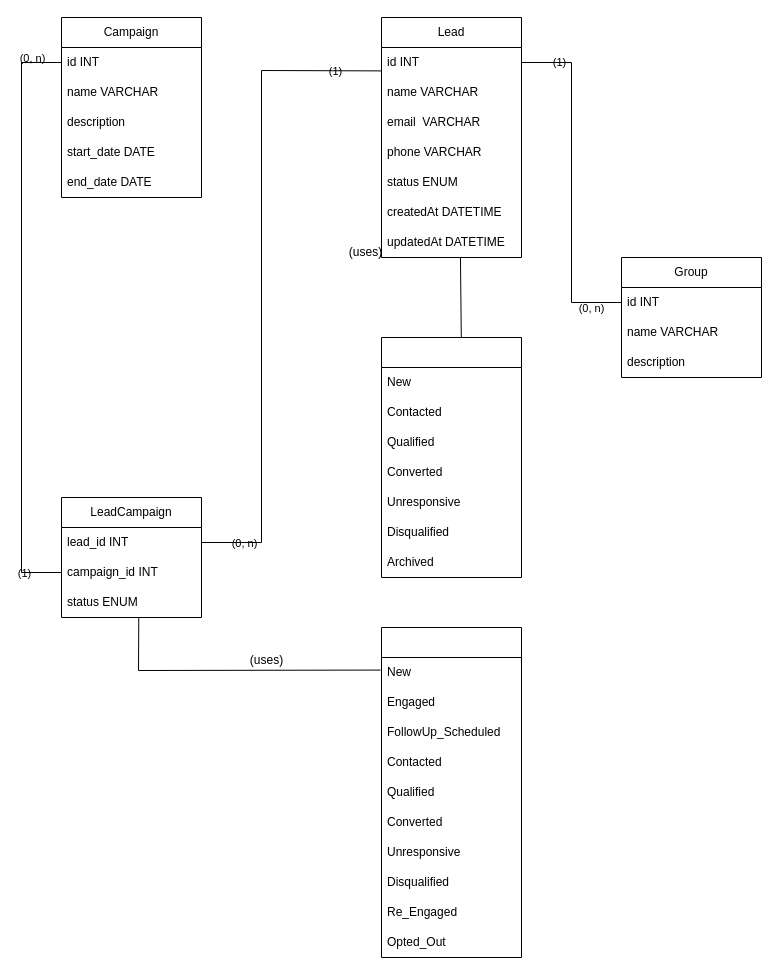
The diagram is 779 pixels wide and 975 high, and some of its shapes have lost their labels. The box of each missing label's shape, as (x1, y1, x2, y2) in pixels:
LeadCampaignStatus: (380, 626, 522, 958)
LeadStatus: (380, 336, 522, 578)
